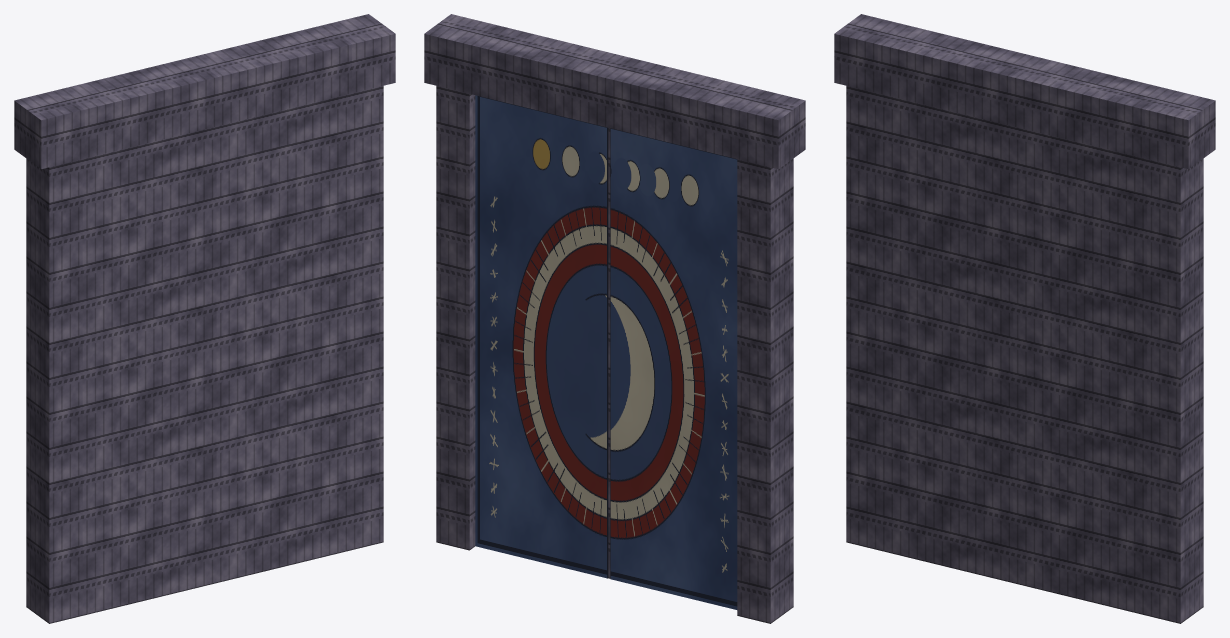
File: Oracle_Door_Grand_LOD2.gltf
3 views of the same model, side by side, from view 1: azimuth 30°, elevation 25°; view 2: azimuth 150°, elevation 25°; view 3: azimuth 330°, elevation 25° (orthographic).
Visible parts, largest first — view 1: Oracle_Door_Grand_LOD2; view 2: Oracle_Door_Grand_LOD2; view 3: Oracle_Door_Grand_LOD2.
Boxes of the visible parts, left/top/right/bottom form: Oracle_Door_Grand_LOD2: left=14, top=14, right=395, bottom=623; Oracle_Door_Grand_LOD2: left=424, top=14, right=805, bottom=623; Oracle_Door_Grand_LOD2: left=834, top=14, right=1215, bottom=623.
Size of the model in its own units: 10.6 by 14.5 by 1.4.
2 materials, 2 textured.
